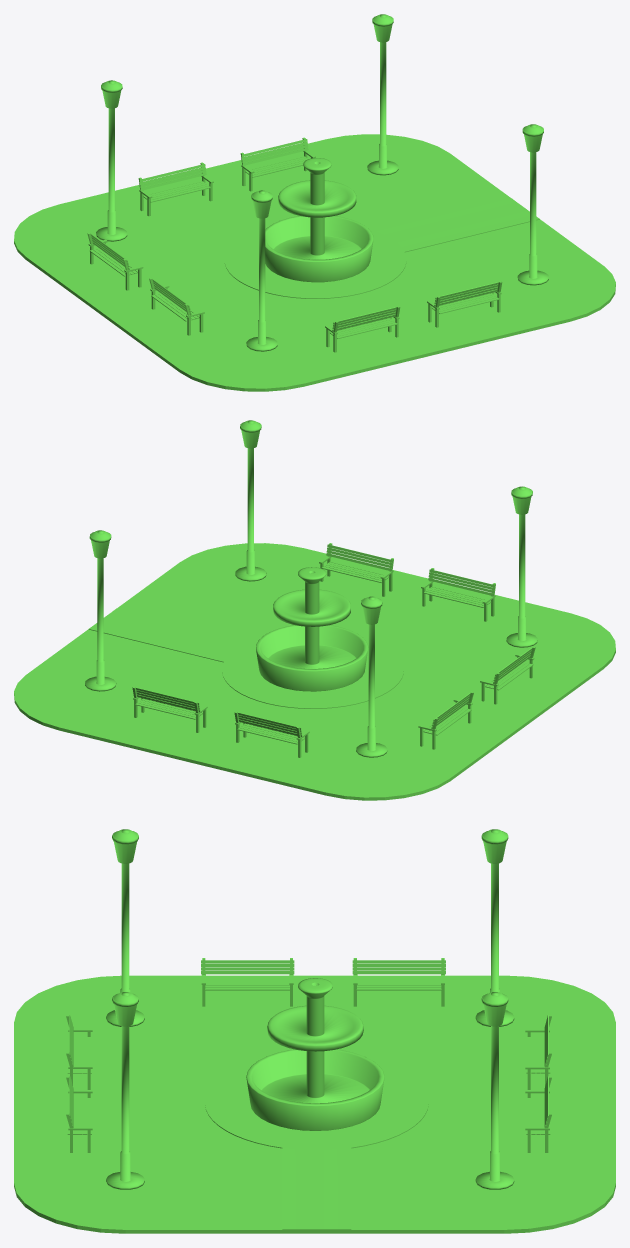
The model's file is PARC.fbx.
3 renders of one model, top to bottom at view 1: azimuth 30°, elevation 25°; view 2: azimuth 150°, elevation 25°; view 3: azimuth 270°, elevation 25°, orthographic. The views are drawn at different scales.
Parts seen in each view (by area): view 1: Cube.013, Cylinder.005, Cylinder.008, banco.002, Cylinder.001, Cylinder.002, Cylinder.007, Cylinder.003, banco.003, banco.004, banco.001, banco.005 (+1 smaller); view 2: Cube.013, Cylinder.005, Cylinder.008, banco.004, banco.001, Cylinder.001, Cylinder.002, Cylinder.003, Cylinder.007, banco.002, banco.003, banco.005 (+1 smaller); view 3: Cube.013, Cylinder.005, Cylinder.008, banco.006, banco.005, Cylinder.001, Cylinder.003, Cylinder.007, Cylinder.002, banco.003, banco.002, banco.001 (+1 smaller).
Part boxes in pixels (x1,y1,x2,y2): Cube.013: (14, 134, 615, 391); Cylinder.005: (265, 158, 373, 282); Cylinder.008: (224, 198, 539, 298); banco.002: (138, 162, 213, 216); Cylinder.001: (517, 124, 548, 285); Cylinder.002: (96, 80, 127, 241); Cylinder.007: (246, 190, 277, 351); Cylinder.003: (367, 14, 398, 175); banco.003: (240, 137, 315, 191); banco.004: (325, 306, 400, 352); banco.001: (427, 281, 502, 327); banco.005: (149, 277, 204, 335); Cube.013: (14, 543, 615, 800); Cylinder.005: (256, 567, 368, 691); Cylinder.008: (88, 608, 403, 708); banco.004: (421, 568, 495, 621); banco.001: (319, 543, 393, 596); Cylinder.001: (235, 420, 266, 581); Cylinder.002: (356, 596, 387, 757); Cylinder.003: (85, 530, 116, 691); Cylinder.007: (506, 486, 537, 647); banco.002: (234, 711, 309, 757); banco.003: (132, 686, 207, 732); banco.005: (480, 646, 535, 704); Cube.013: (14, 975, 615, 1233); Cylinder.005: (246, 978, 384, 1130); Cylinder.008: (205, 1062, 428, 1229); banco.006: (352, 958, 445, 1006); banco.005: (201, 958, 294, 1006); Cylinder.001: (106, 992, 144, 1189); Cylinder.003: (475, 992, 514, 1189); Cylinder.007: (106, 829, 144, 1026); Cylinder.002: (475, 829, 514, 1026); banco.003: (525, 1076, 552, 1152); banco.002: (525, 1015, 552, 1089); banco.001: (66, 1076, 92, 1152).
Size of the model in its own units: 4347 by 1576 by 4347.
